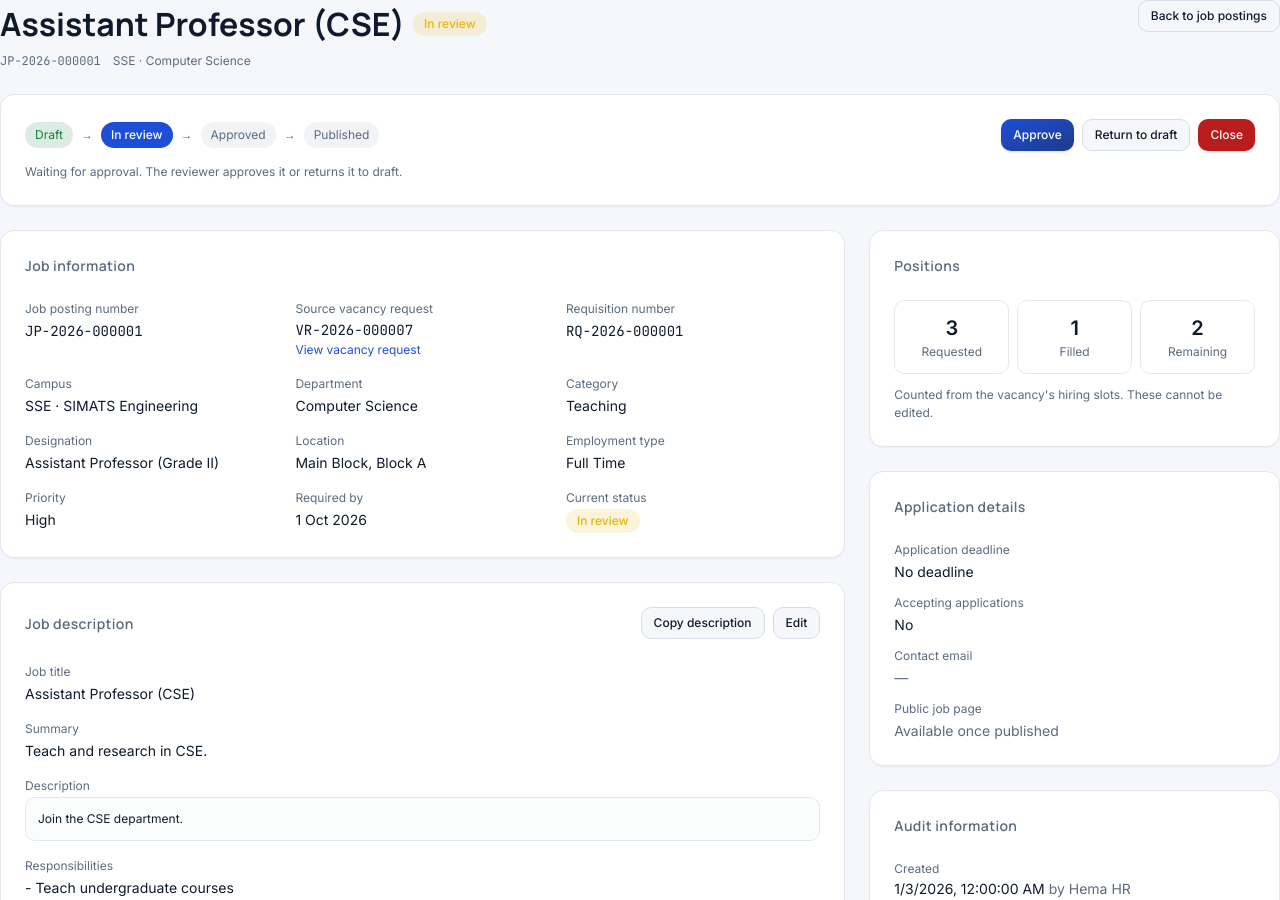
Test: JobPostingDetailPage › warns that saving a posting under review sends it back to draft
Step 1. Click the button "Edit" → click(796, 623), box [773,607,820,639]
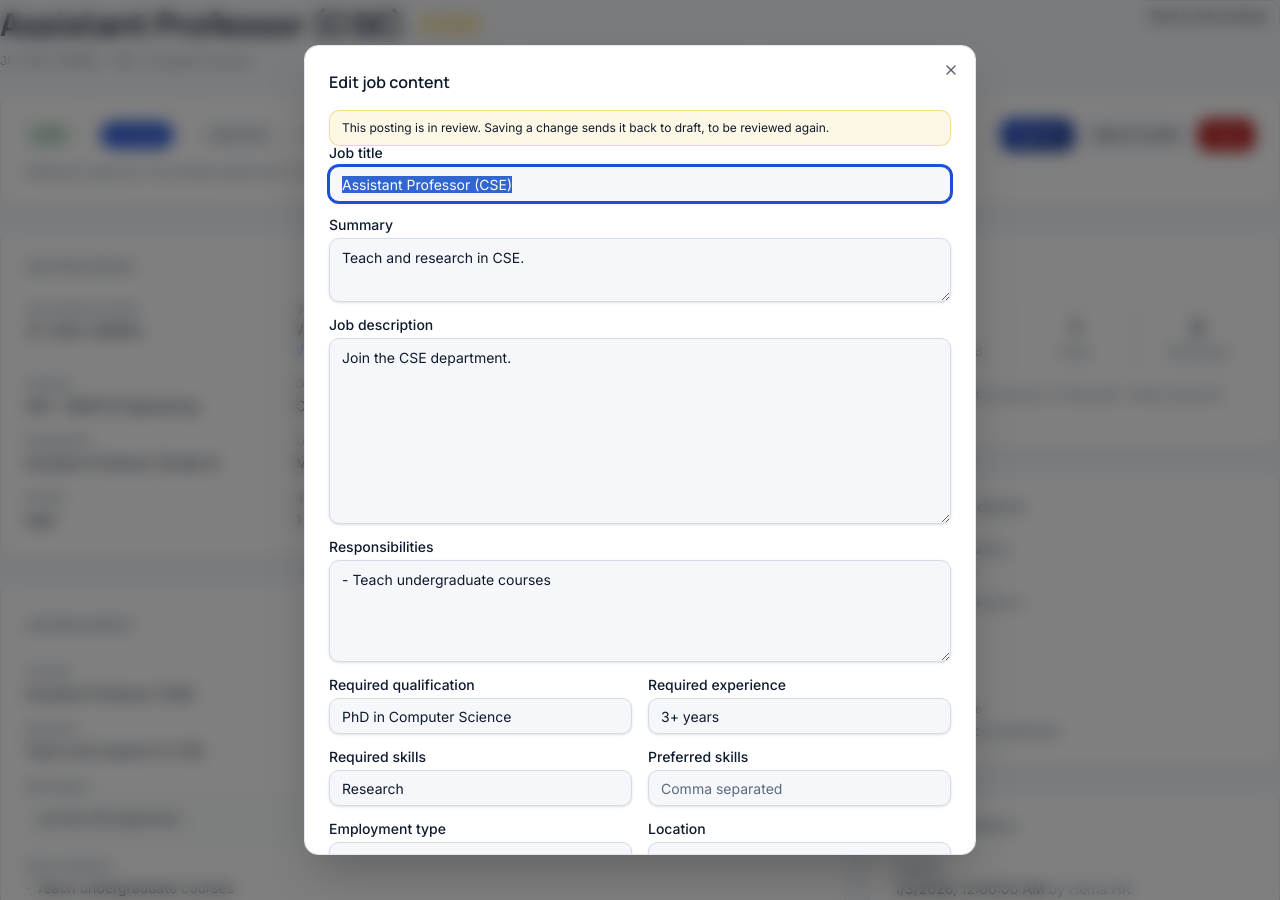
Expected: the text "Saving a change sends it back to draft" is shown, [477,120,829,135]
